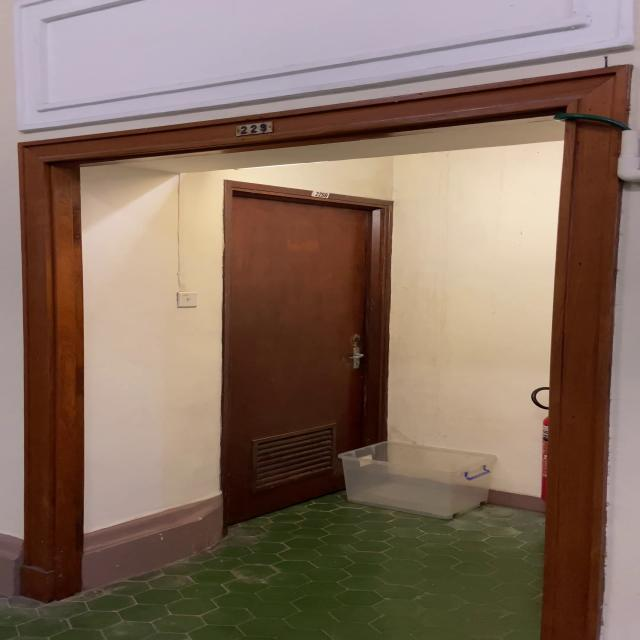room229: (229, 120, 275, 140)
